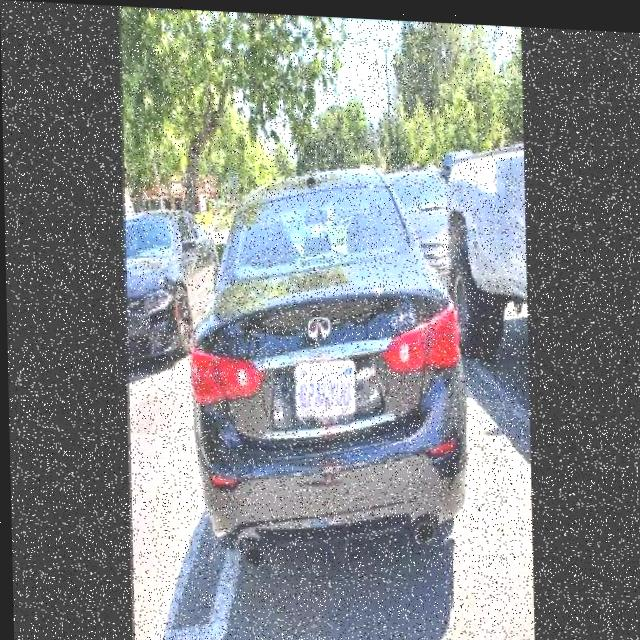LicensePlate: (294, 358, 352, 414)
